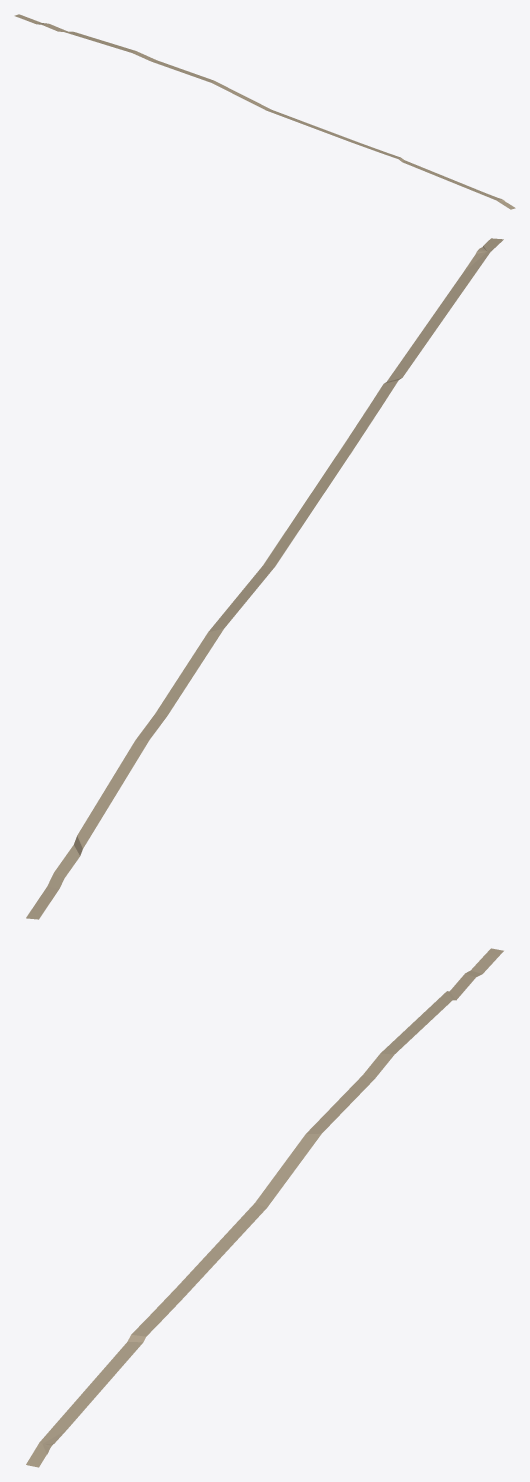
The model's file is farm_0_-3_track.glb.
3 views of the same model, one above another, from view 1: azimuth 30°, elevation 25°; view 2: azimuth 150°, elevation 25°; view 3: azimuth 330°, elevation 25° (orthographic). The views are drawn at different scales.
Visible parts, largest first — view 1: geometry_0; view 2: geometry_0; view 3: geometry_0.
Boxes of the visible parts, x1,y1,x2,y2 form: geometry_0: (14,14,515,209); geometry_0: (26,238,503,919); geometry_0: (26,948,503,1467).
Size of the model in its own units: 75.41 by 22.8 by 346.
